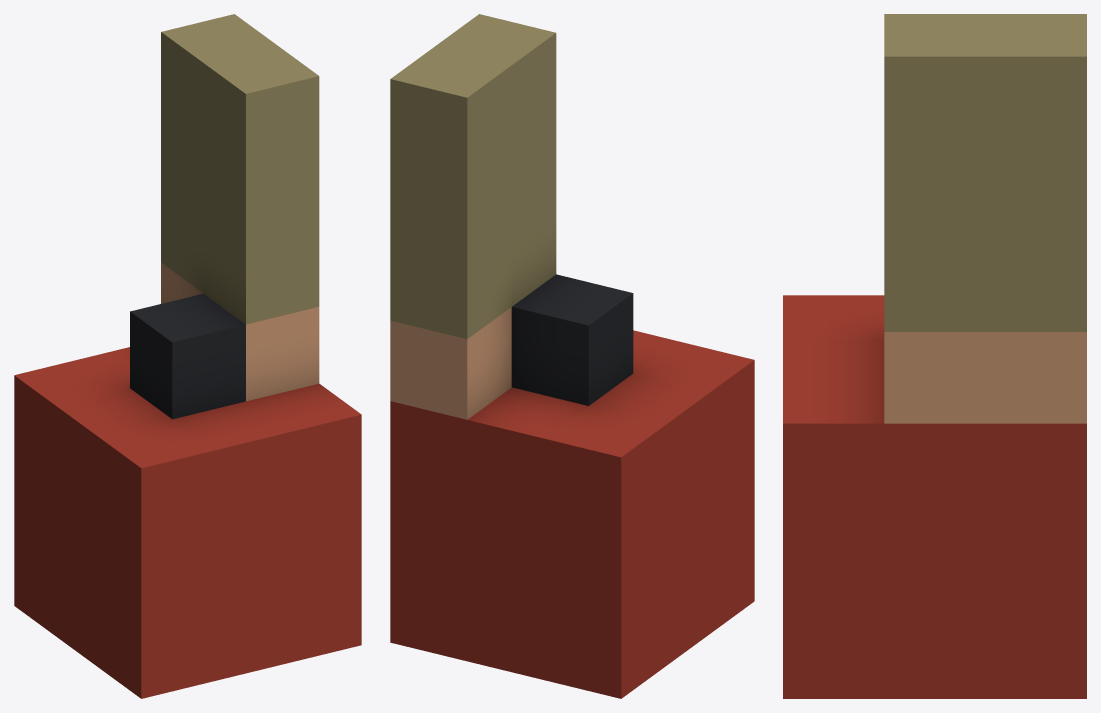
Rendered from cm_arm_e_l.glb.
The picture shows the model from 3 angles, left to right: view 1: azimuth 30°, elevation 25°; view 2: azimuth 150°, elevation 25°; view 3: azimuth 270°, elevation 25°; orthographic projection. The views are drawn at different scales.
Parts seen in each view (by area): view 1: cm_arm_e_l_body; view 2: cm_arm_e_l_body; view 3: cm_arm_e_l_body.
Boxes of the visible parts, x1=… form: cm_arm_e_l_body: x1=14, y1=14, x2=361, y2=698; cm_arm_e_l_body: x1=390, y1=14, x2=754, y2=698; cm_arm_e_l_body: x1=783, y1=14, x2=1086, y2=698.
Bounding box in the file's own units: 0.1875 × 0.4375 × 0.1875.
1 material, 1 textured.
